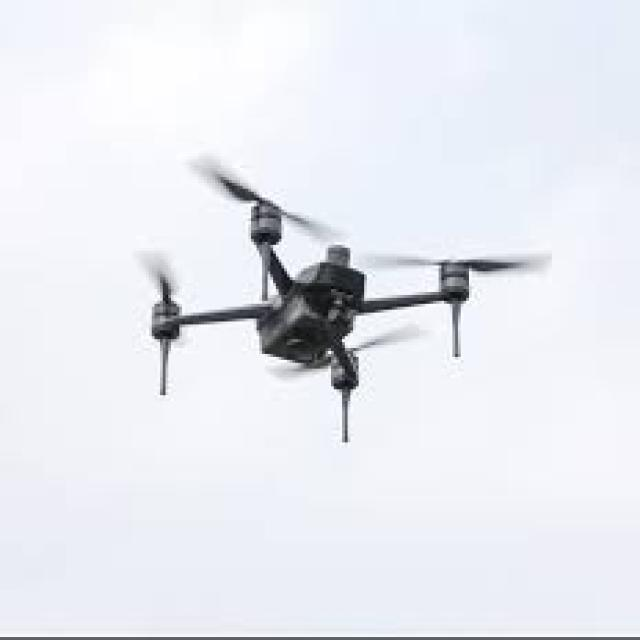drone: (133, 147, 534, 461)
